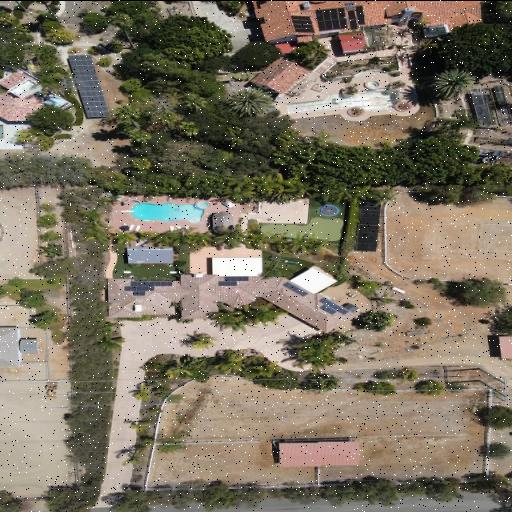solar-panel: (68, 54, 111, 116), (356, 197, 382, 251), (315, 7, 348, 31), (125, 280, 172, 295), (319, 296, 350, 314), (291, 15, 315, 32), (282, 281, 309, 296), (219, 275, 249, 285), (348, 9, 358, 29), (355, 5, 365, 24)
